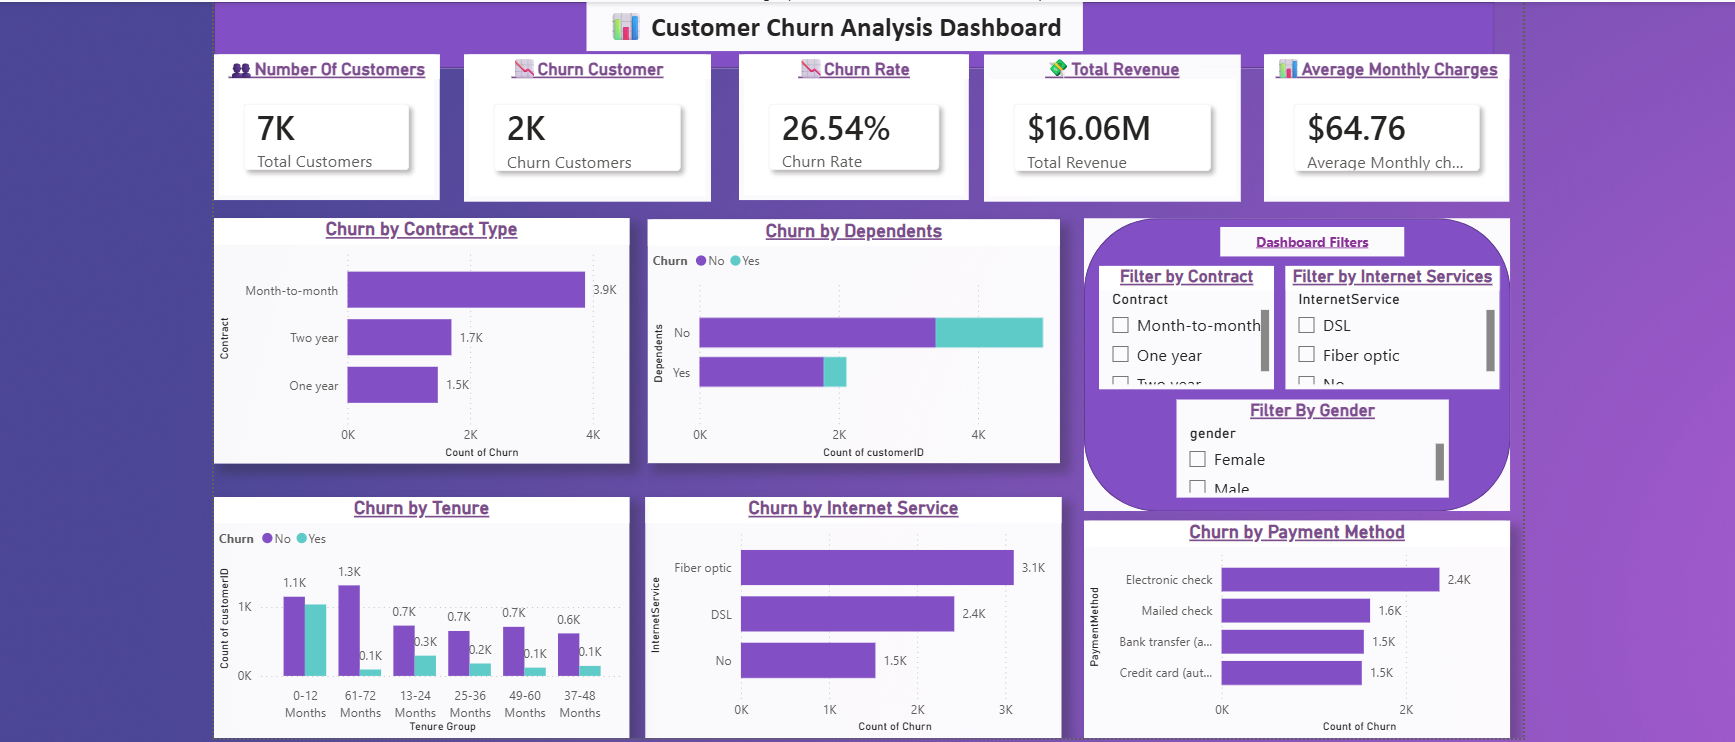

What the dashboard file says about the page in this screenshot:
{"tool":"powerbi","page":{"name":"Page 1","canvas":[1280,720],"ordinal":0},"visuals":[{"type":"shape","box":[850.8,211.3,417.2,286.8],"z":0},{"type":"shape","box":[0,0,1252.8,64.5],"z":1000},{"type":"cardVisual","title":"👥Number Of Customers","fields":{"Data":["Telco-Customer-Churn.Total Customers"]},"box":[0,47.7,243.3,145.5],"z":2000},{"type":"cardVisual","title":"📉Churn Customer","fields":{"Data":["Telco-Customer-Churn.Churn Customers"]},"box":[243.3,47.7,270.2,145.5],"z":3000},{"type":"cardVisual","title":"📉Churn Rate","fields":{"Data":["Telco-Customer-Churn.Churn Rate"]},"box":[513.2,48,251.1,144.1],"z":4000},{"type":"cardVisual","title":"💸Total Revenue","fields":{"Data":["Telco-Customer-Churn.Total Revenue"]},"box":[754.7,48,273.1,144.1],"z":5000},{"type":"cardVisual","title":"📊Average Monthly Charges","fields":{"Data":["Telco-Customer-Churn.Average Monthly charges"]},"box":[1027.8,49.4,252.5,142.7],"z":6000},{"type":"barChart","title":"Churn by Contract Type","fields":{"Category":["Telco-Customer-Churn.Contract"],"Y":["CountNonNull(Telco-Customer-Churn.Churn)"]},"box":[0,211.3,406.2,240.1],"z":7000},{"type":"barChart","title":"Churn by Dependents","fields":{"Category":["Telco-Customer-Churn.Dependents"],"Series":["Telco-Customer-Churn.Churn"],"Y":["CountNonNull(Telco-Customer-Churn.customerID)"]},"box":[424,212.7,403.4,238.8],"z":8000},{"type":"clusteredBarChart","title":"Churn by Internet Service","fields":{"Category":["Telco-Customer-Churn.InternetService"],"Y":["CountNonNull(Telco-Customer-Churn.Churn)"]},"box":[421.3,484.4,407.5,236],"z":9000},{"type":"barChart","title":"Churn by Payment Method ","fields":{"Y":["CountNonNull(Telco-Customer-Churn.Churn)"],"Category":["Telco-Customer-Churn.PaymentMethod"]},"box":[850.8,507.7,417.2,212.7],"z":10000},{"type":"clusteredColumnChart","title":"Churn by Tenure","fields":{"Category":["Telco-Customer-Churn.Tenure Group"],"Y":["CountNonNull(Telco-Customer-Churn.customerID)"],"Series":["Telco-Customer-Churn.Churn"]},"box":[0,484.4,406.2,236],"z":11000},{"type":"slicer","title":"Filter by Contract ","fields":{"Values":["Telco-Customer-Churn.Contract"]},"box":[865.9,258,171.5,120.8],"z":12000},{"type":"slicer","title":"Filter By Gender","fields":{"Values":["Telco-Customer-Churn.gender"]},"box":[941.3,388.3,266.2,96.1],"z":13000},{"type":"slicer","title":"Filter by Internet Services","fields":{"Values":["Telco-Customer-Churn.InternetService"]},"box":[1048.4,258,209.9,120.8],"z":14000},{"type":"textbox","box":[365,0,485.8,48],"z":15000},{"type":"textbox","box":[983.9,219.6,179.8,28.8],"z":16000}]}

Visuals, with their boxes in screenshot pixels (x1, y1, x2, y2):
shape: Rect(1076, 214, 1499, 506)
shape: Rect(212, 0, 1484, 65)
"👥Number Of Customers" cardVisual: Rect(212, 48, 459, 196)
"📉Churn Customer" cardVisual: Rect(459, 48, 734, 196)
"📉Churn Rate" cardVisual: Rect(733, 49, 988, 195)
"💸Total Revenue" cardVisual: Rect(978, 49, 1255, 195)
"📊Average Monthly Charges" cardVisual: Rect(1255, 50, 1512, 195)
"Churn by Contract Type" barChart: Rect(212, 214, 625, 458)
"Churn by Dependents" barChart: Rect(643, 216, 1052, 458)
"Churn by Internet Service" clusteredBarChart: Rect(640, 492, 1054, 731)
"Churn by Payment Method " barChart: Rect(1076, 515, 1499, 731)
"Churn by Tenure" clusteredColumnChart: Rect(212, 492, 625, 731)
"Filter by Contract " slicer: Rect(1091, 262, 1265, 384)
"Filter By Gender" slicer: Rect(1168, 394, 1438, 492)
"Filter by Internet Services" slicer: Rect(1276, 262, 1489, 384)
textbox: Rect(583, 0, 1076, 49)
textbox: Rect(1211, 223, 1393, 252)
